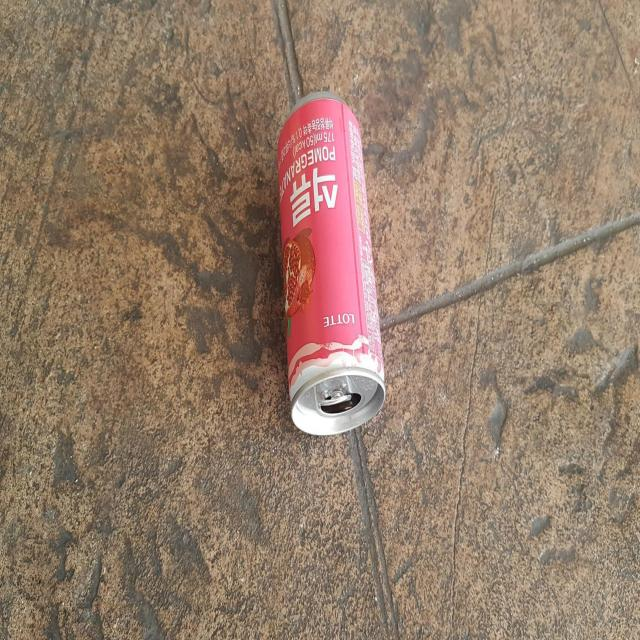can: (277, 90, 386, 435)
